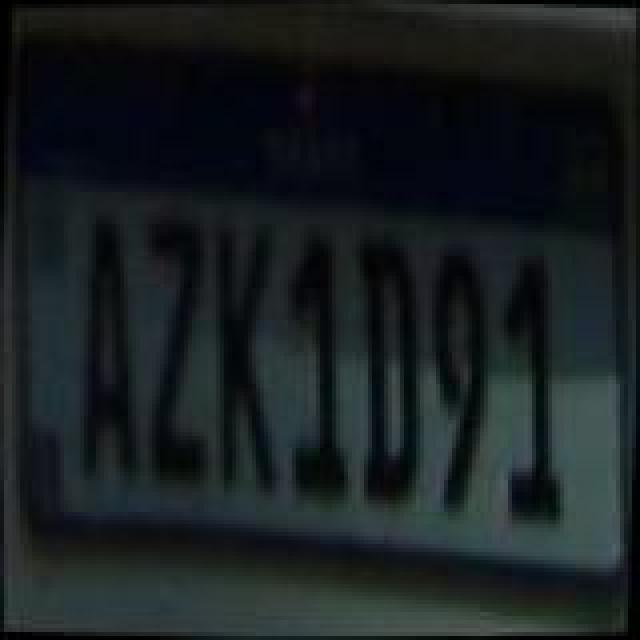1: (274, 224, 358, 500), (492, 244, 572, 532)
9: (420, 240, 500, 516)
A: (68, 204, 152, 484)
D: (346, 228, 430, 508)
K: (200, 210, 288, 502)
Z: (130, 202, 214, 486)
